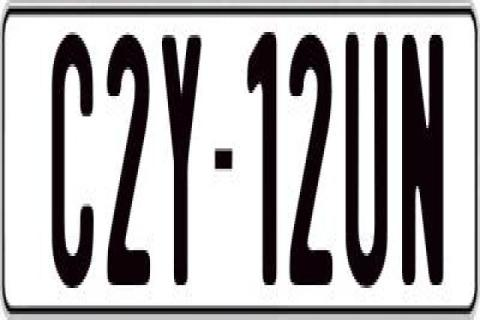0: (286, 35, 334, 303), (105, 32, 149, 294), (246, 26, 278, 294)
C: (48, 35, 98, 299)
N: (398, 32, 446, 296)
U: (342, 32, 392, 300)
Y: (162, 27, 202, 280)
